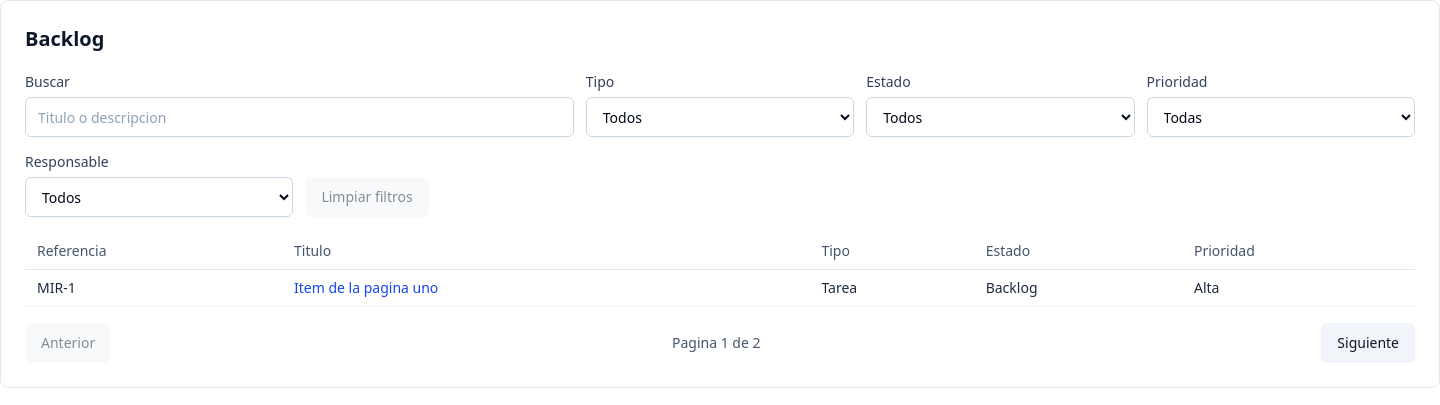
Test case: WorkItemBacklog › navega a la pagina siguiente con la query correcta y actualiza los controles
expect the link "Item de la pagina uno" is shown: met, box [294,278,438,297]
What coordinates should you click on to do the following:
click the button "Siguiente"
I would click on:
 (1368, 343)
Its box is [1321,323,1415,363].
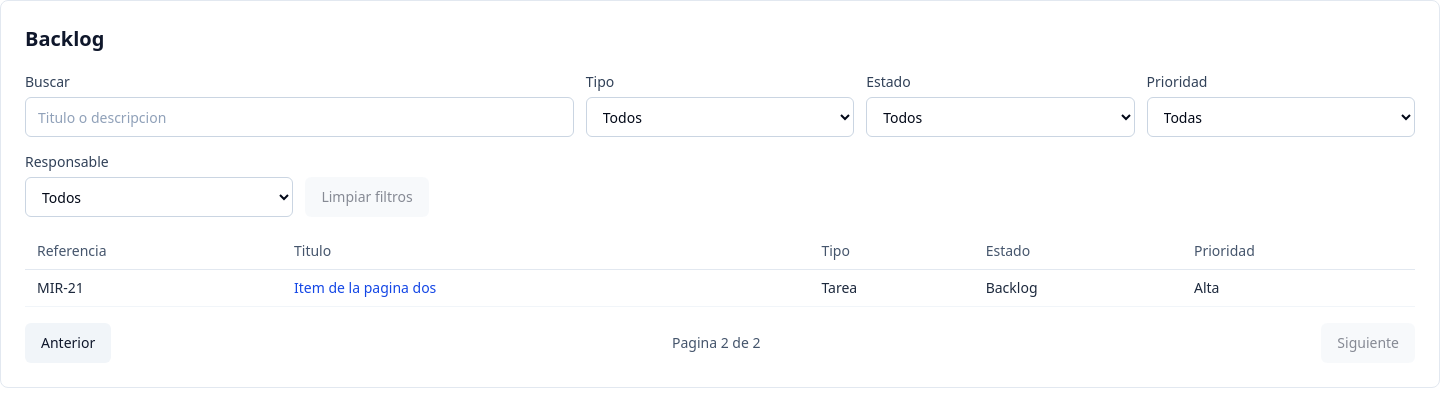
expect the link "Item de la pagina dos" is shown: met, box [294,278,436,297]
expect the text "Pagina 2 de 2" is shown: met, box [672,333,760,353]
expect the button "Anterior" is enabled: met, box [25,323,111,363]
